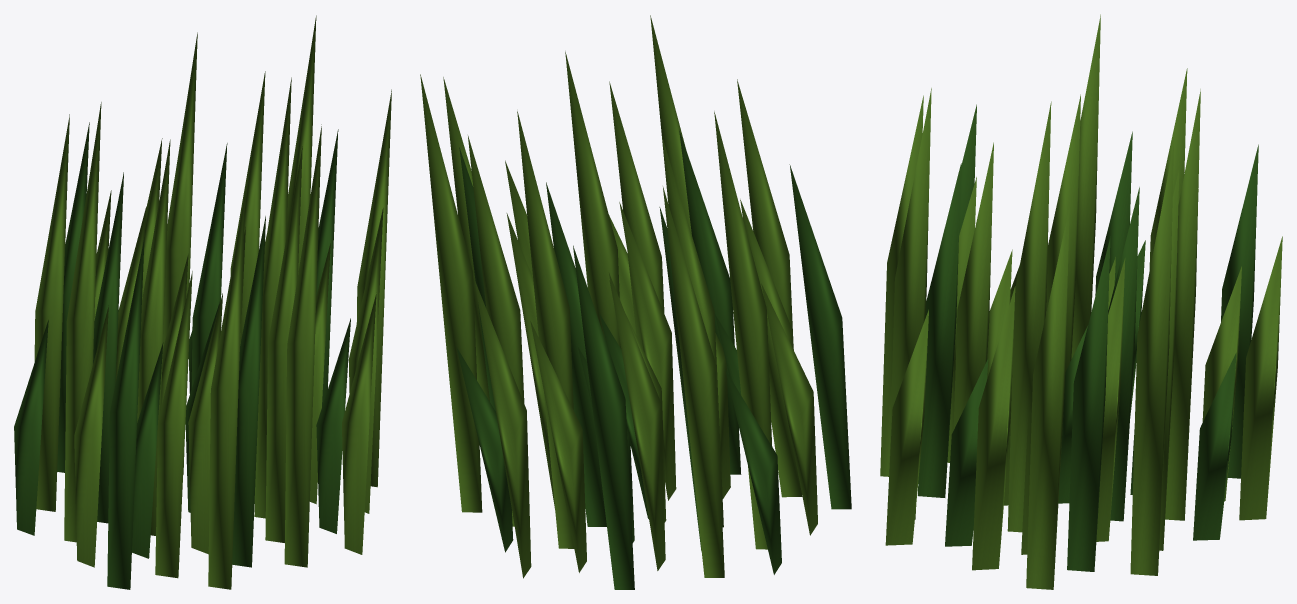
The model's file is SM_shrub_LOD2.fbx.
The picture shows the model from 3 angles, left to right: view 1: azimuth 30°, elevation 25°; view 2: azimuth 150°, elevation 25°; view 3: azimuth 270°, elevation 25°; orthographic projection. The views are drawn at different scales.
Parts seen in each view (by area): view 1: SM_shrub_LOD2; view 2: SM_shrub_LOD2; view 3: SM_shrub_LOD2.
Boxes of the visible parts, x1,y1,x2,y2 form: SM_shrub_LOD2: (14, 15, 391, 589); SM_shrub_LOD2: (420, 15, 851, 589); SM_shrub_LOD2: (880, 14, 1282, 589).
Bounding box in the file's own units: 0.5608 × 0.5284 × 0.6517.
